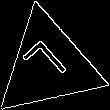L_SE: (20, 36, 76, 95)
